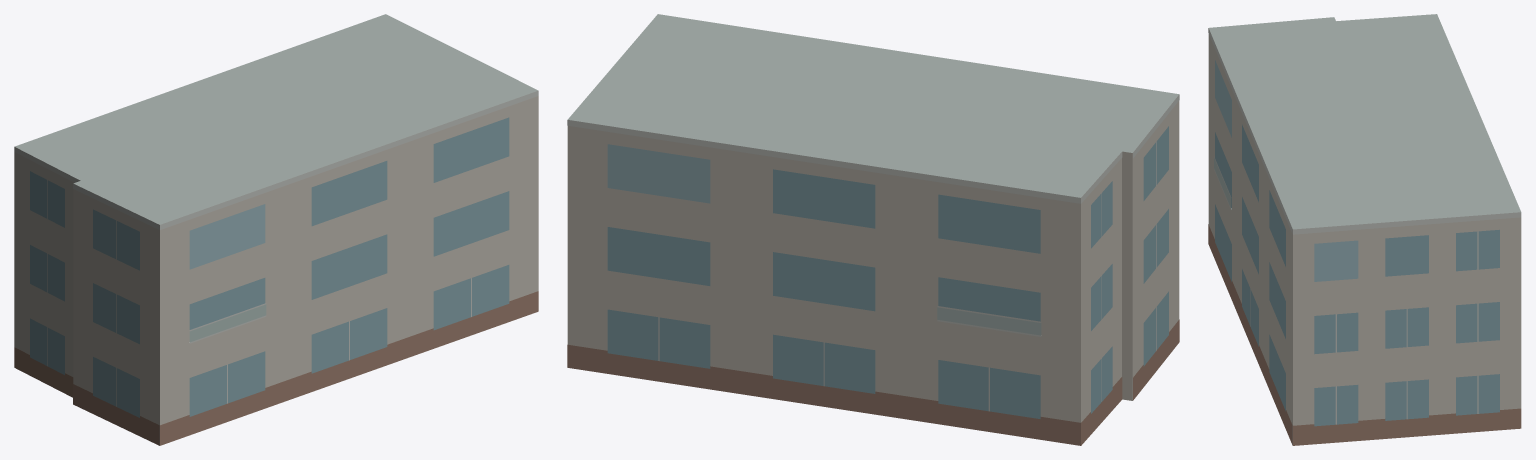
The model's file is survey-upis-32614426.glb.
The picture shows the model from 3 angles, left to right: view 1: azimuth 30°, elevation 25°; view 2: azimuth 150°, elevation 25°; view 3: azimuth 270°, elevation 25°; orthographic projection. The views are drawn at different scales.
Parts seen in each view (by area): view 1: survey-upis-32614426.tmp; view 2: survey-upis-32614426.tmp; view 3: survey-upis-32614426.tmp.
Boxes of the visible parts, x1,y1,x2,y2 form: survey-upis-32614426.tmp: (14, 14, 538, 445); survey-upis-32614426.tmp: (567, 14, 1179, 445); survey-upis-32614426.tmp: (1208, 14, 1521, 445).
Bounding box in the file's own units: 21.78 × 10.2 × 13.37.
